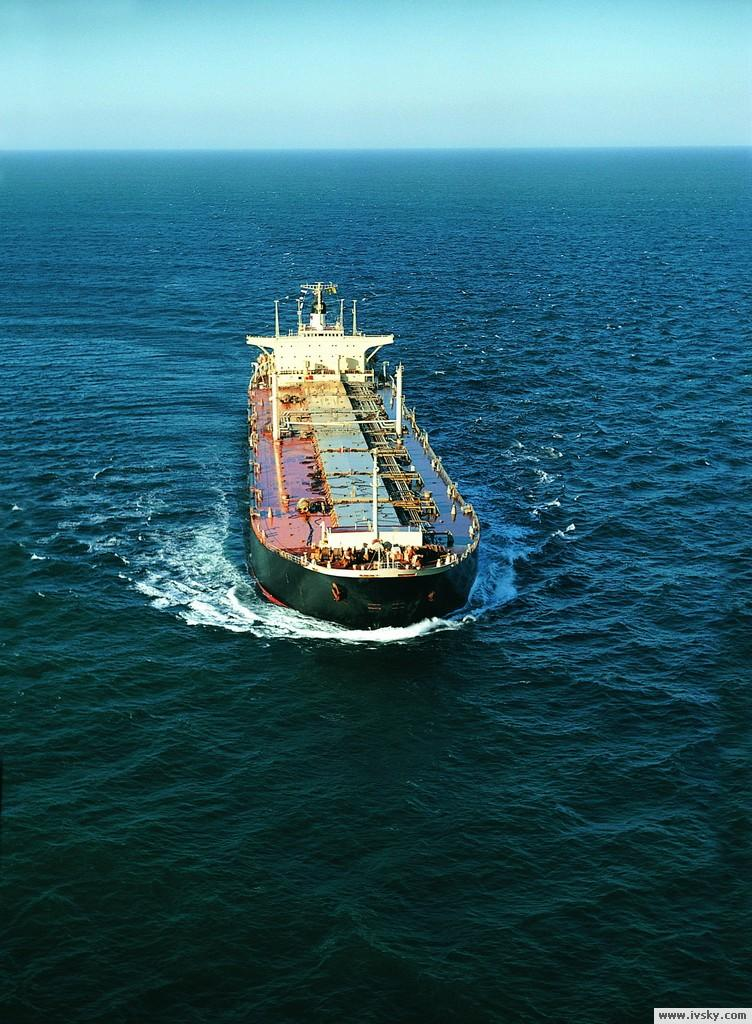Cargoship: (240, 276, 482, 662)
